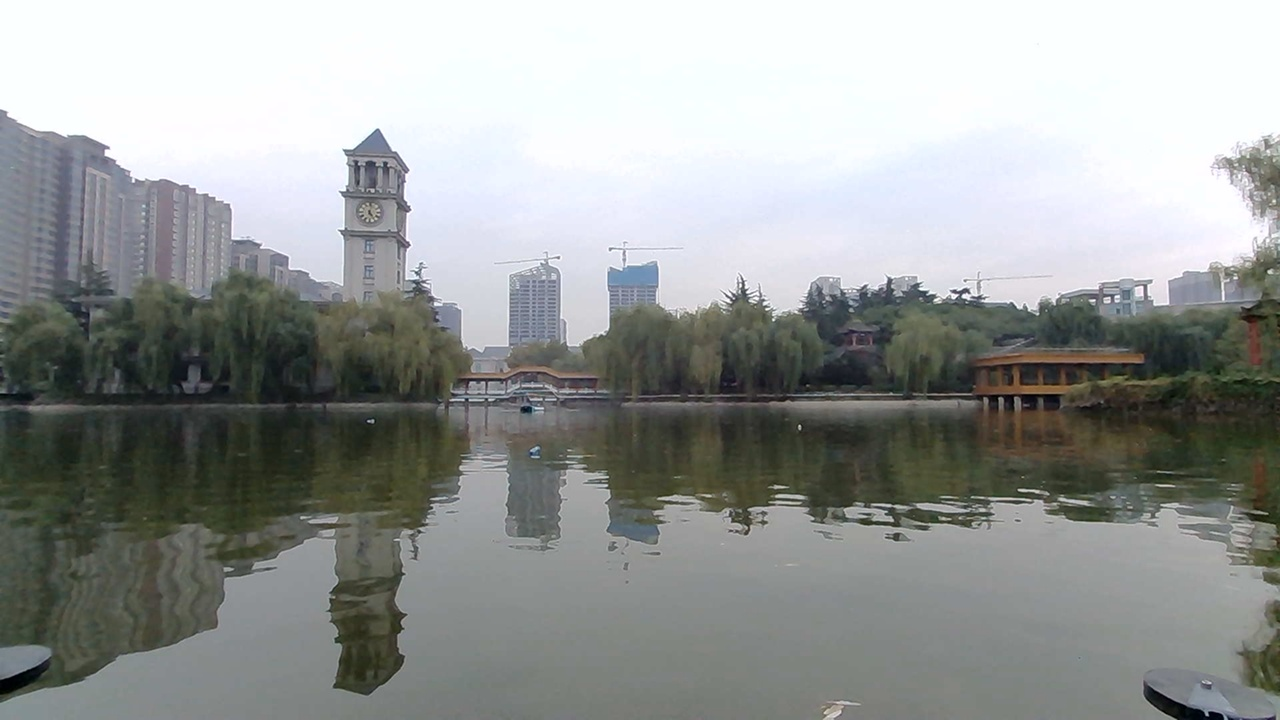bottle: (512, 435, 553, 464), (786, 417, 817, 438), (362, 408, 388, 427)
